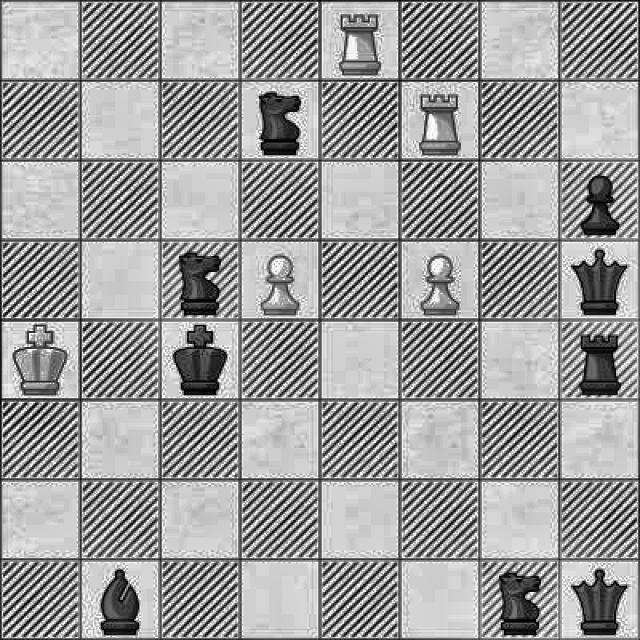Black Knight: (165, 246, 232, 316), (489, 563, 548, 640), (251, 87, 308, 163)
black bishop: (90, 562, 153, 638)
black king: (167, 320, 232, 399)
black pawn: (574, 166, 631, 240)
black queen: (567, 561, 636, 640), (566, 243, 634, 316)
black rook: (562, 328, 638, 397)
white king: (5, 322, 74, 398)
white pawn: (251, 248, 309, 316), (409, 251, 467, 319)
white rook: (325, 0, 391, 81), (410, 87, 472, 161)
